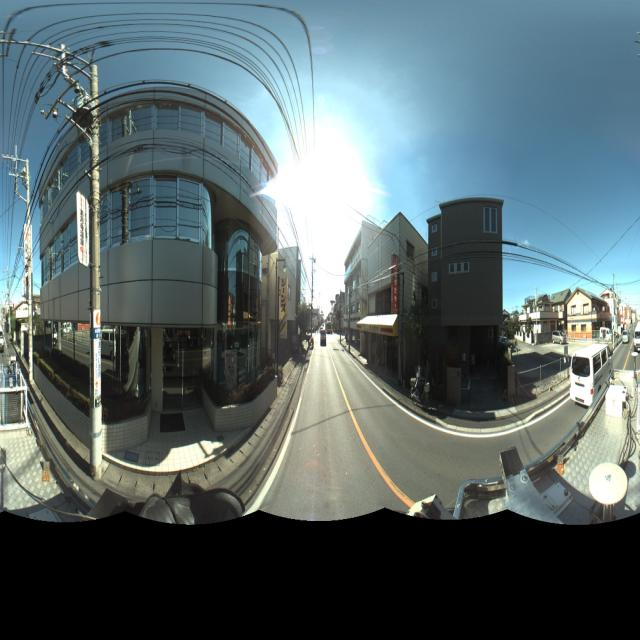b_1: (28, 92, 277, 424), (426, 189, 507, 401), (368, 202, 432, 376), (343, 206, 382, 362), (272, 244, 305, 374), (568, 282, 604, 359), (547, 286, 571, 352)
